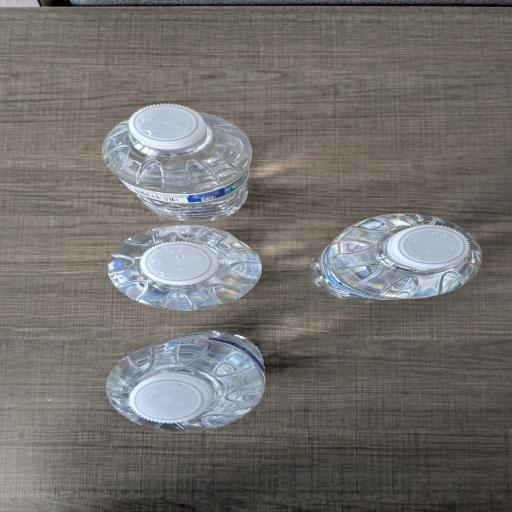waterbottle: (103, 104, 251, 221), (107, 331, 265, 431), (313, 214, 481, 300), (108, 226, 261, 310)
